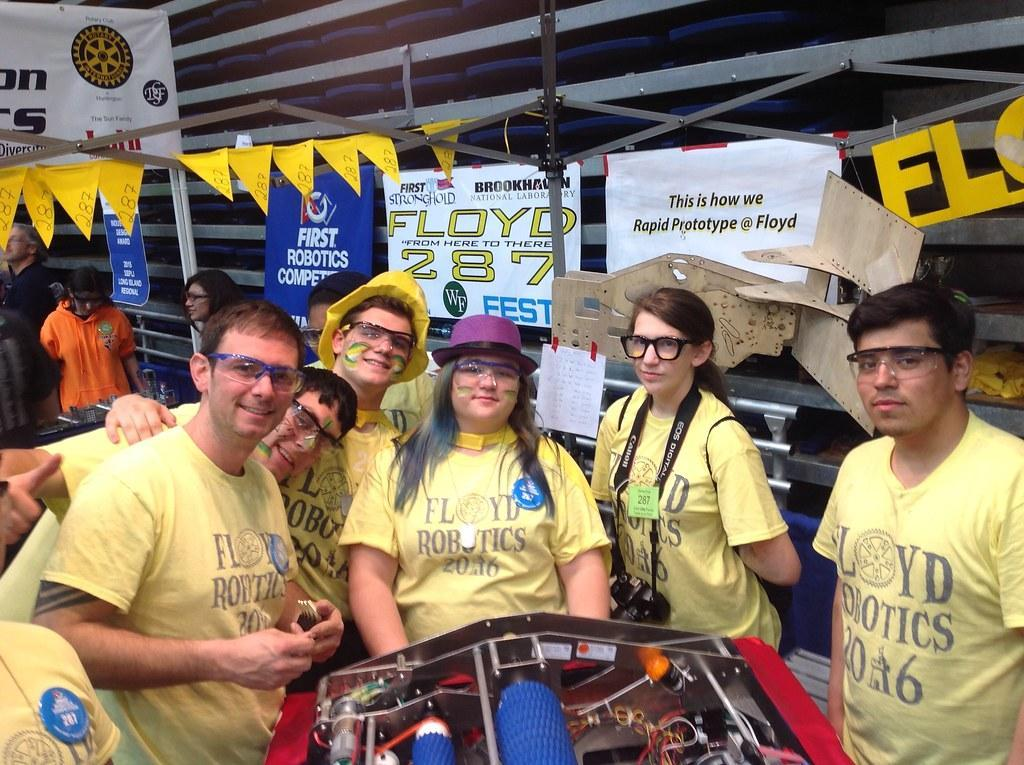robot: (254, 602, 868, 765)
